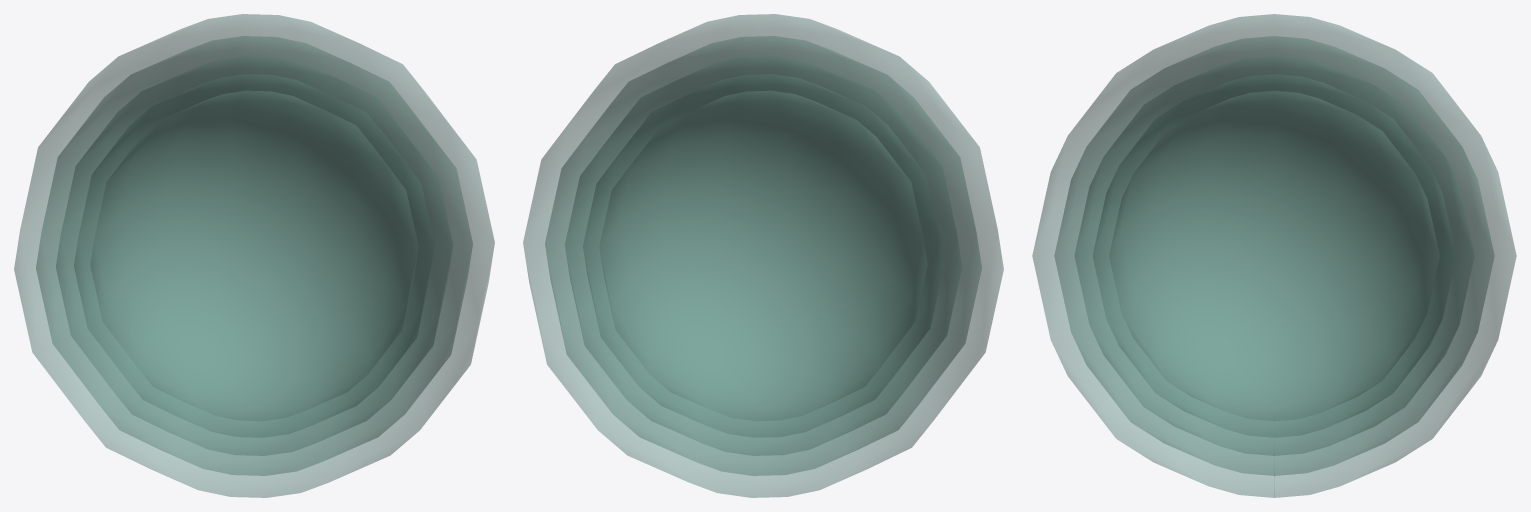
The model's file is player-skybox.glb.
3 views of the same model, side by side, from view 1: azimuth 30°, elevation 25°; view 2: azimuth 150°, elevation 25°; view 3: azimuth 270°, elevation 25° (orthographic).
Visible parts, largest first — view 1: Sphere; view 2: Sphere; view 3: Sphere.
Part boxes in pixels (<box>): Sphere: <box>14,14,494,497</box>; Sphere: <box>523,14,1003,497</box>; Sphere: <box>1032,14,1516,497</box>.
Bounding box in the file's own units: 58.56 × 58.56 × 58.56.
